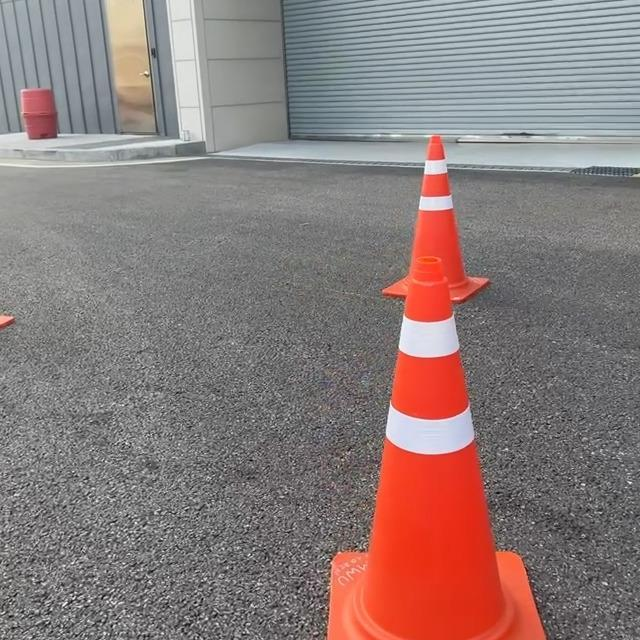fallen_object: (341, 241, 543, 640), (336, 93, 498, 311)
